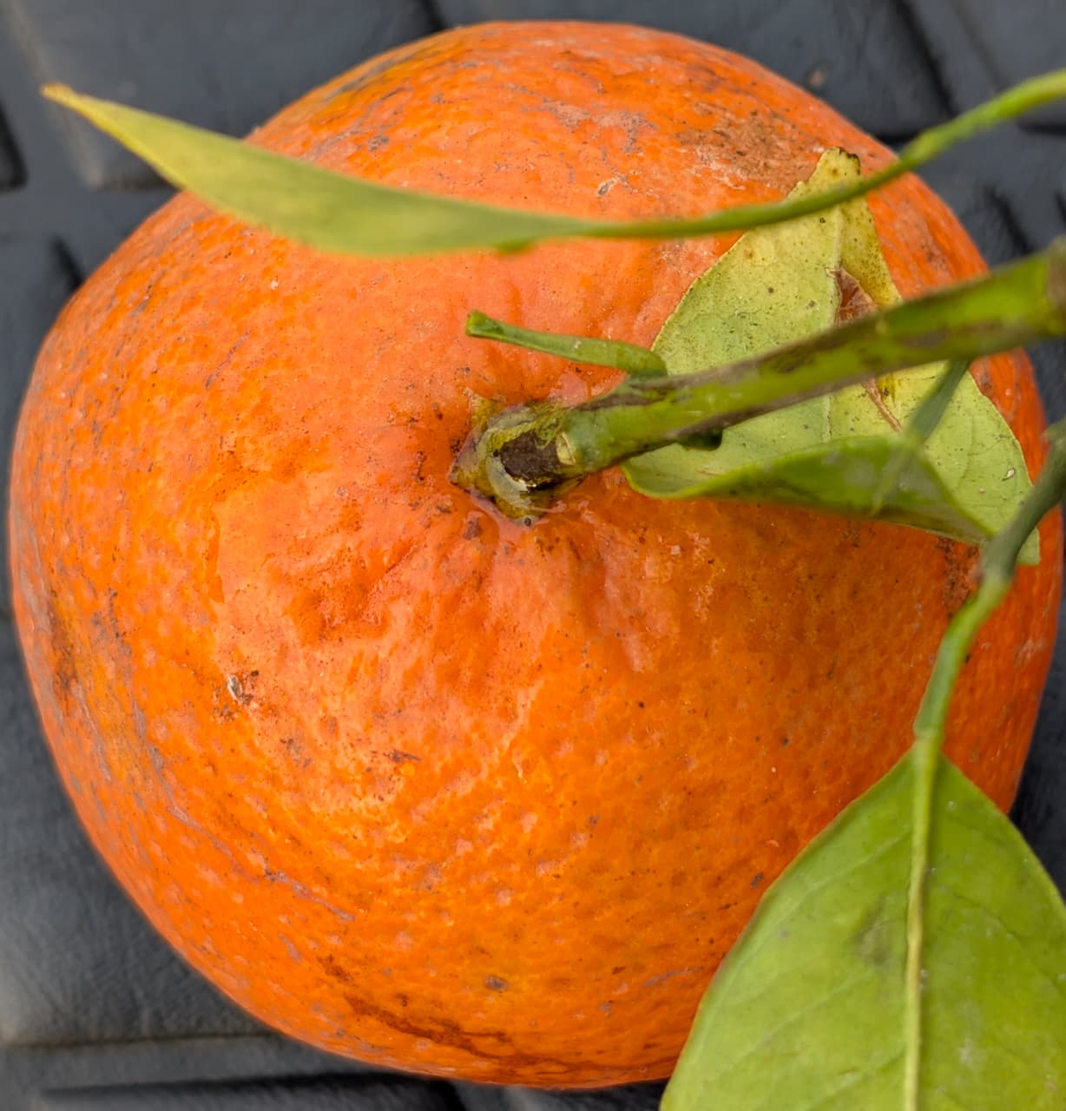orange: (235, 266, 971, 1044)
